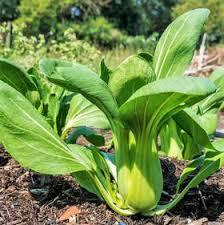Healthy-Pechay: (2, 8, 220, 217), (15, 134, 67, 166)
